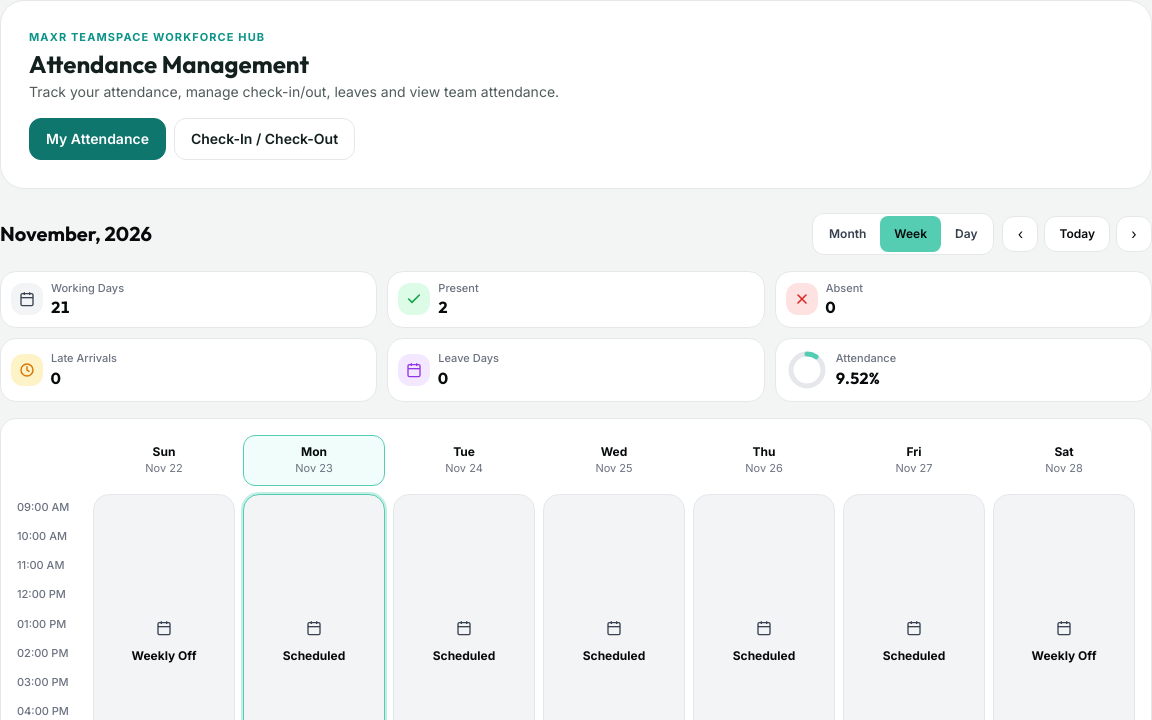
Attendance Management 4-Tab Module › renders My Attendance KPIs and switches across all 4 sub-navigation tabs
The width and height of the screenshot is (1152, 720).
expect the heading "Attendance Management" is shown: met, box [29, 48, 309, 78]
expect the element with test id "my-attendance-kpi-grid" is shown: met, box [0, 270, 1151, 402]
Note: Switch to Check-In / Check-Out tab & verify panel + attendance history card
Click the button with test id "attendance-tab-check-in".
click(264, 138)  # box [174, 118, 355, 160]
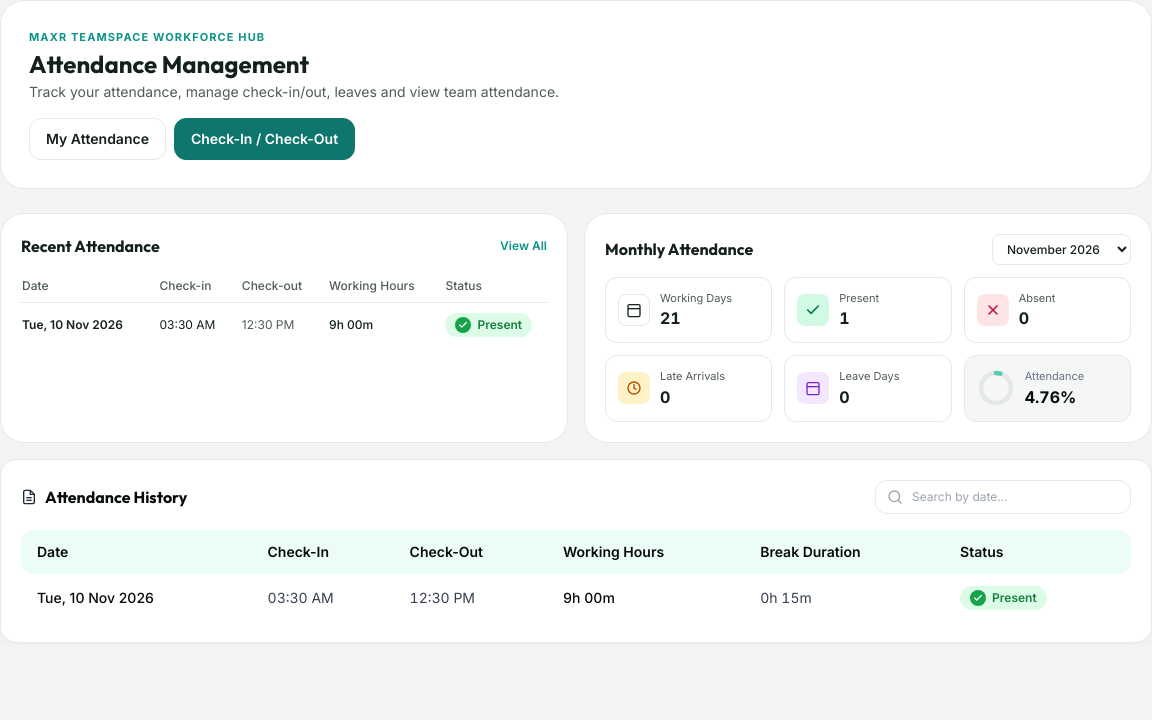
expect the element with test id "check-in-tab-panel" is shown: met, box [0, 212, 1151, 642]
expect the element with test id "attendance-history-card" is shown: met, box [0, 458, 1151, 642]
